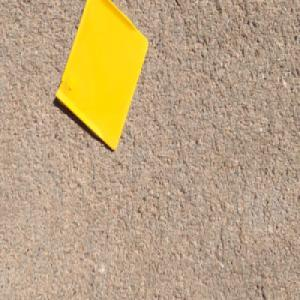PlasticPart: (54, 0, 149, 154)
